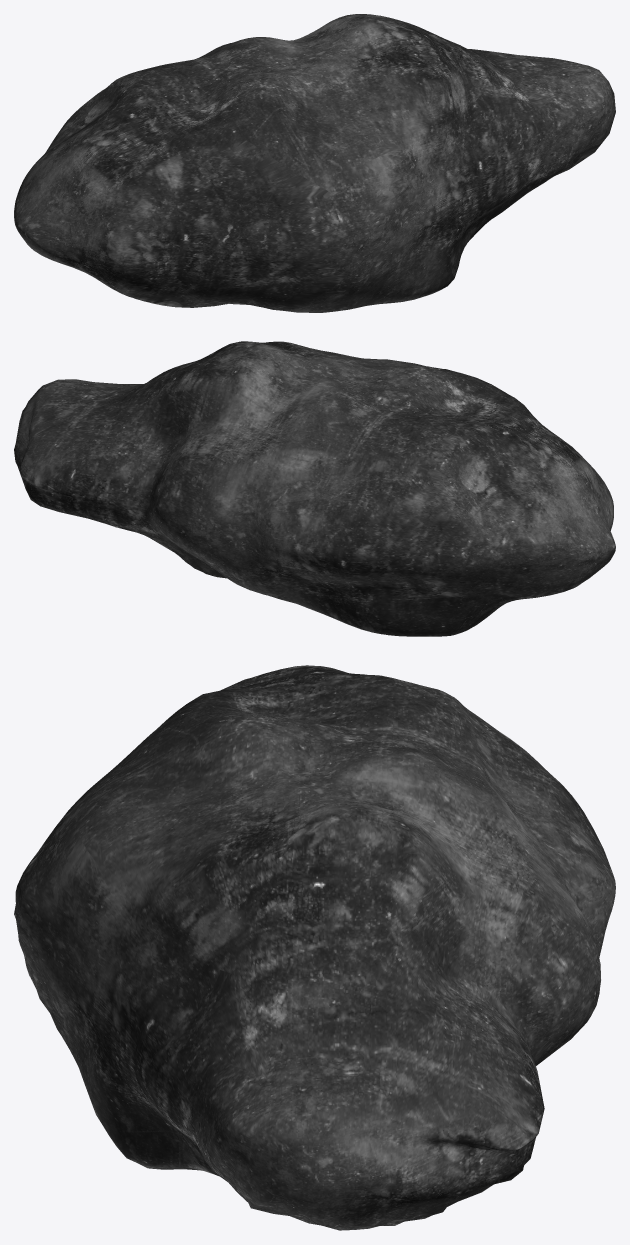
File: ast3.fbx
3 renders of one model, top to bottom at view 1: azimuth 30°, elevation 25°; view 2: azimuth 150°, elevation 25°; view 3: azimuth 270°, elevation 25°, orthographic. The views are drawn at different scales.
Parts seen in each view (by area): view 1: ast3; view 2: ast3; view 3: ast3.
Boxes of the visible parts, x1,y1,x2,y2 form: ast3: (14, 14, 615, 312); ast3: (14, 341, 615, 636); ast3: (14, 665, 615, 1230).
Size of the model in its own units: 2.21 by 0.8203 by 1.25.
Materials: 1 (1 with a texture image).
